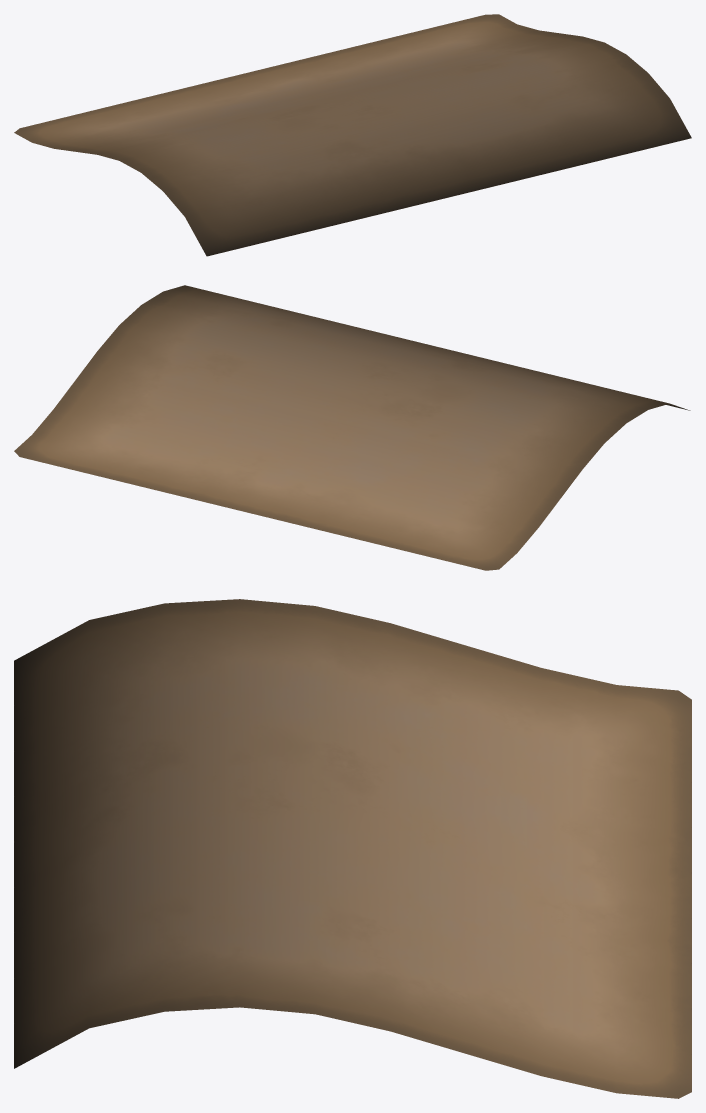
Rendered from my_anim_test_mesh.glb.
3 renders of one model, top to bottom at view 1: azimuth 30°, elevation 25°; view 2: azimuth 150°, elevation 25°; view 3: azimuth 270°, elevation 25°, orthographic. The views are drawn at different scales.
Visible parts, largest first — view 1: Grid; view 2: Grid; view 3: Grid.
Part boxes in pixels (x1,y1,x2,y2): Grid: (14, 14, 691, 256); Grid: (14, 285, 690, 570); Grid: (14, 599, 691, 1098).
Size of the model in its own units: 2.85 by 0.3014 by 2.
1 material, 1 textured.
